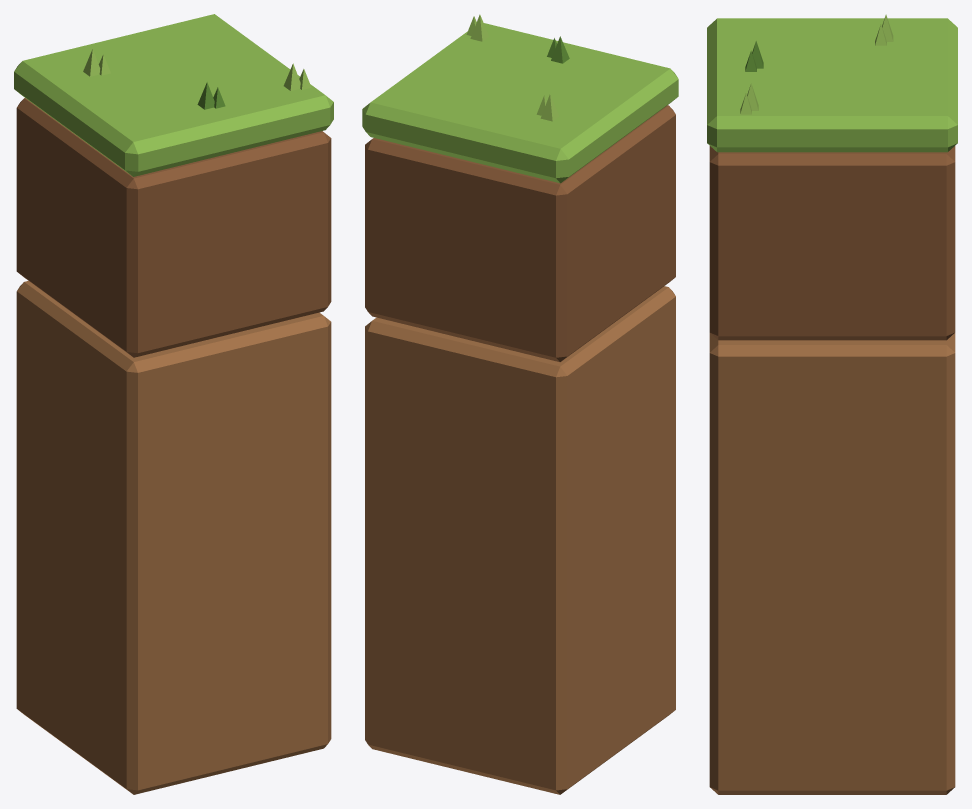
File: column-sea-2b.glb
3 views of the same model, side by side, from view 1: azimuth 30°, elevation 25°; view 2: azimuth 150°, elevation 25°; view 3: azimuth 270°, elevation 25° (orthographic). The views are drawn at different scales.
Visible parts, largest first — view 1: column-sea-2b; view 2: column-sea-2b; view 3: column-sea-2b.
Boxes of the visible parts, x1,y1,x2,y2 form: column-sea-2b: (14, 14, 333, 794); column-sea-2b: (362, 14, 678, 794); column-sea-2b: (707, 14, 957, 794).
Size of the model in its own units: 1 by 3.1 by 1.
